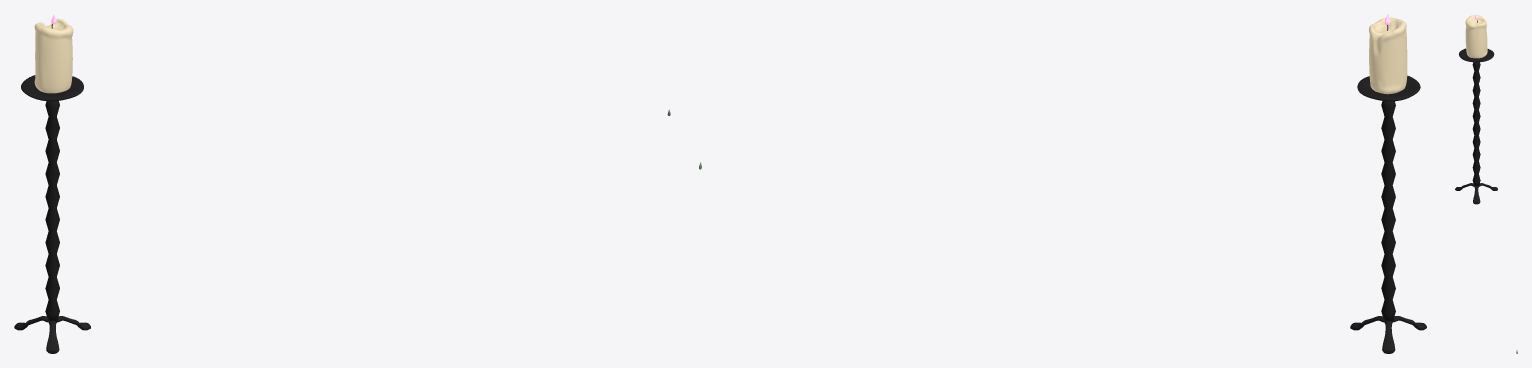
Rendered from candle.fbx.
The picture shows the model from 3 angles, left to right: view 1: azimuth 30°, elevation 25°; view 2: azimuth 150°, elevation 25°; view 3: azimuth 270°, elevation 25°; orthographic projection. The views are drawn at different scales.
Visible parts, largest first — view 1: holder, Wax; view 2: holder, Wax; view 3: holder, Wax.
Part boxes in pixels (x1,y1,x2,y2): holder: (14, 75, 90, 353); Wax: (34, 18, 73, 93); holder: (1350, 75, 1426, 353); Wax: (1369, 17, 1407, 94); holder: (1455, 48, 1497, 204); Wax: (1465, 15, 1487, 58).
Bounding box in the file's own units: 199 × 89.97 × 28.29.
